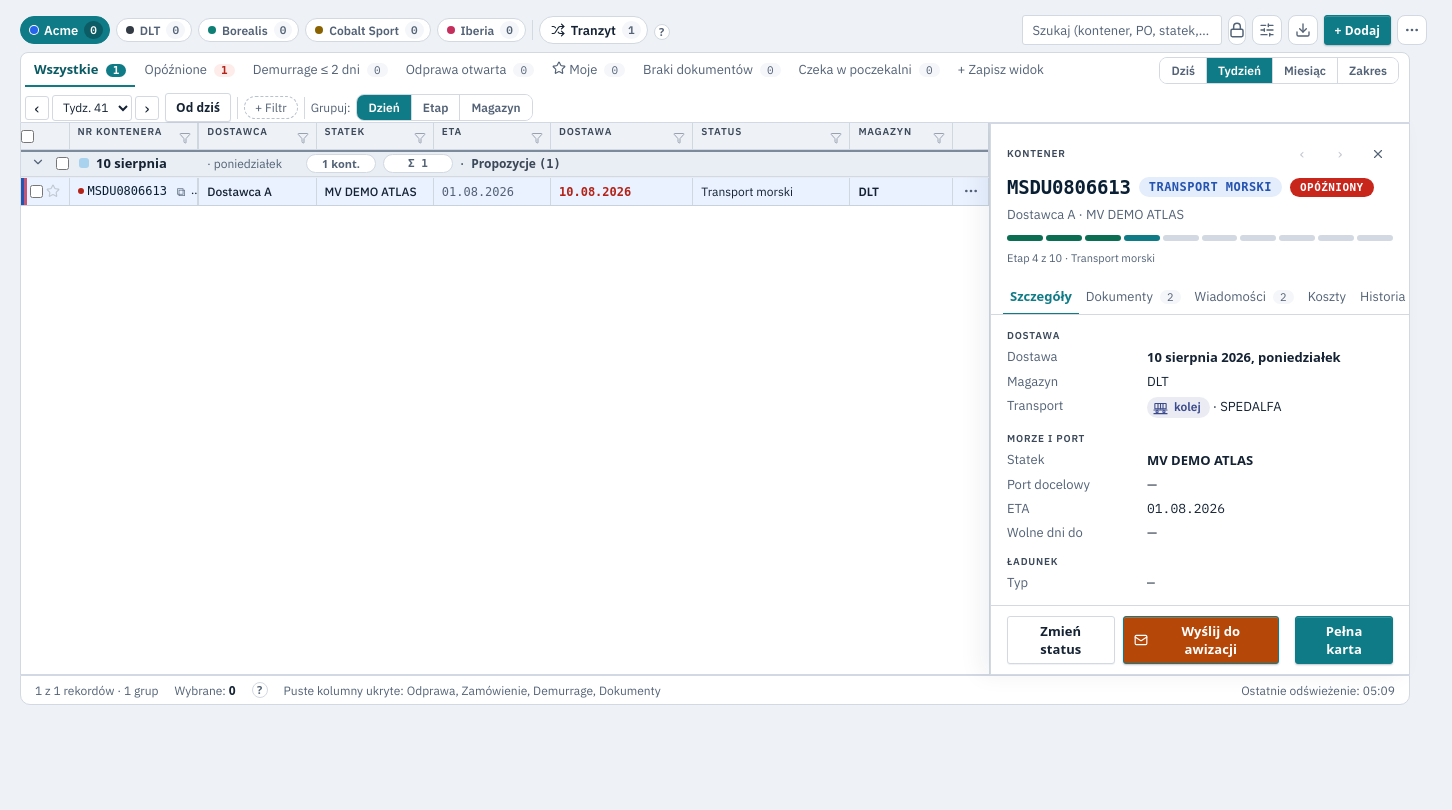
Test case: szuflada — zakładki Dokumenty / Wiadomości / Koszty › Dokumenty: kafelki z rozszerzeniem, meta; nowe pliki tylko przez poczekalnię
The image size is (1452, 810).
Click the tab "Dokumenty 2" at [1133, 297], box x1=1079 y1=279 x2=1188 y2=315
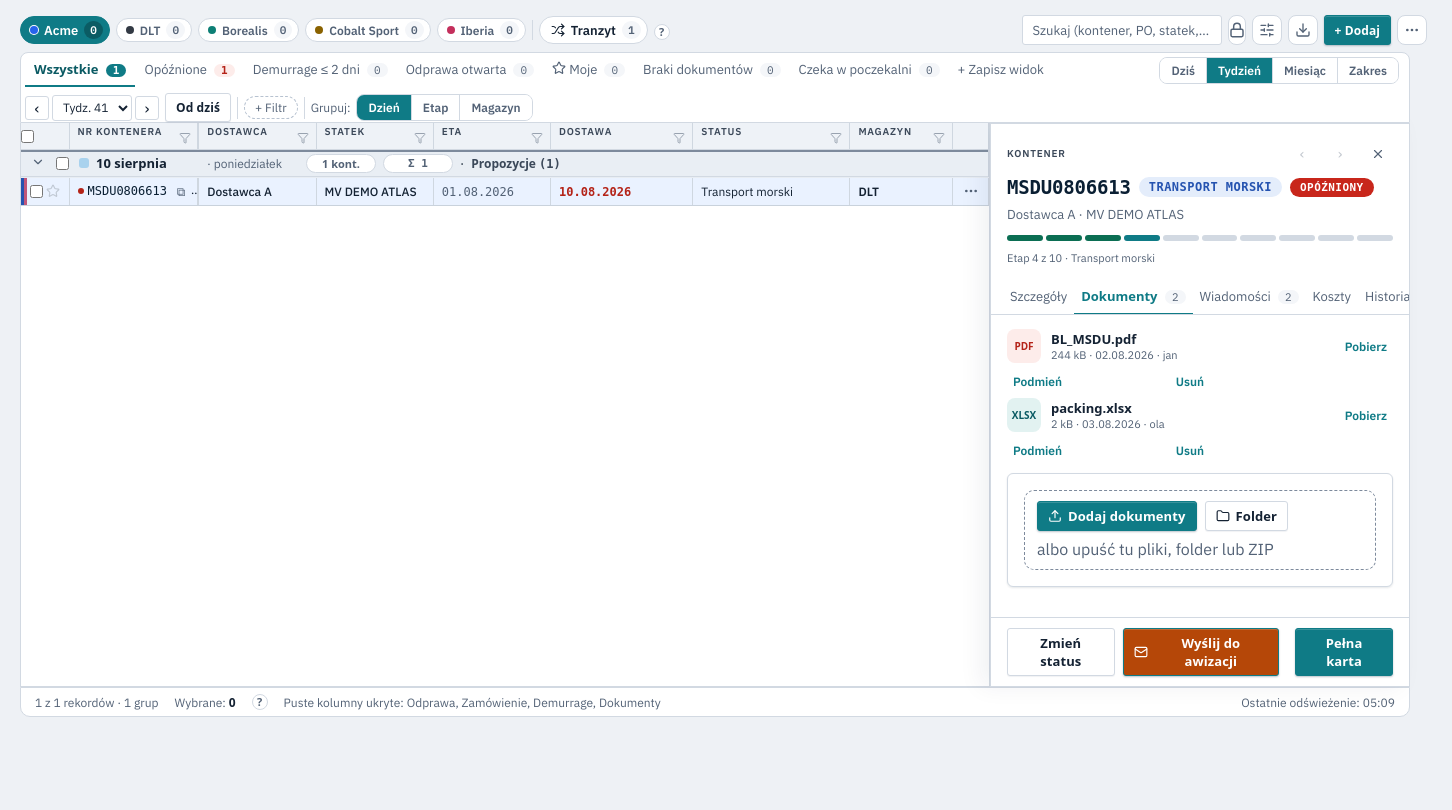
Check: the number of list items is 2, box x1=1007 y1=329 x2=1393 y2=390; x1=1007 y1=398 x2=1393 y2=459
Check: the text with class "kq-doc-ico" reads "PDF", box x1=1014 y1=339 x2=1034 y2=353
Check: the list item that starts with "PDF" shows "244 kB", box x1=1051 y1=348 x2=1178 y2=362
